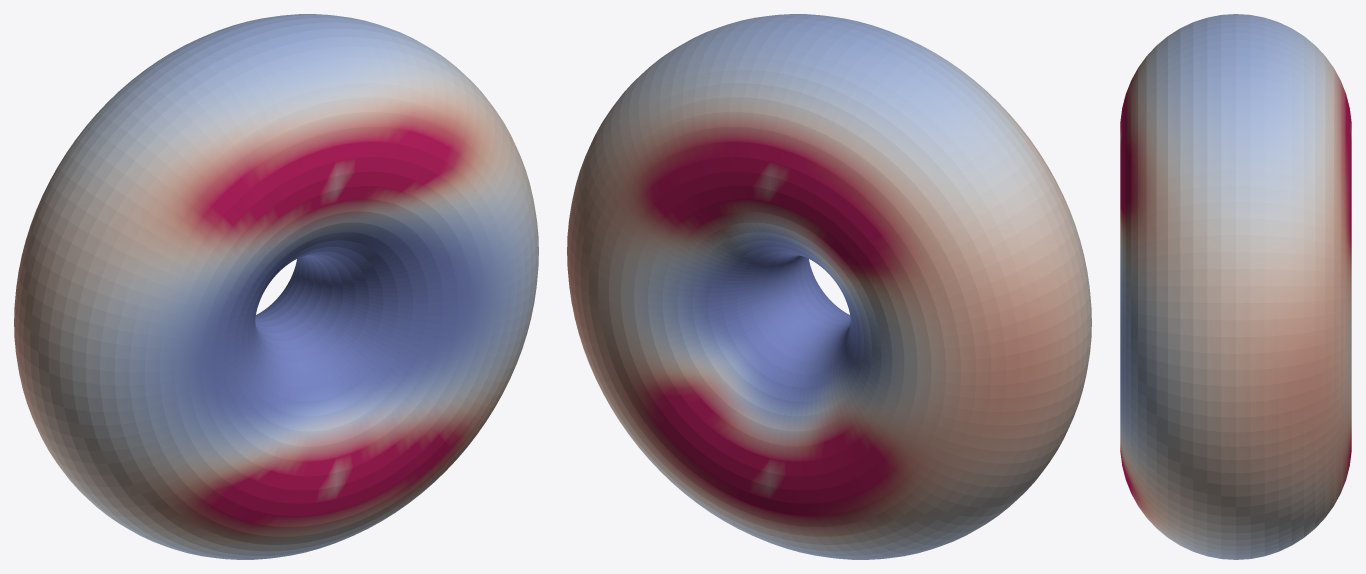
3 renders of one model, left to right at view 1: azimuth 30°, elevation 25°; view 2: azimuth 150°, elevation 25°; view 3: azimuth 270°, elevation 25°, orthographic. The views are drawn at different scales.
Parts seen in each view (by area): view 1: world; view 2: world; view 3: world.
Part boxes in pixels (box(x1,y1,x2,y2)): world: box(14, 14, 538, 559); world: box(567, 14, 1091, 559); world: box(1120, 14, 1351, 559).
Size of the model in its own units: 18.53 by 18.53 by 7.85.
